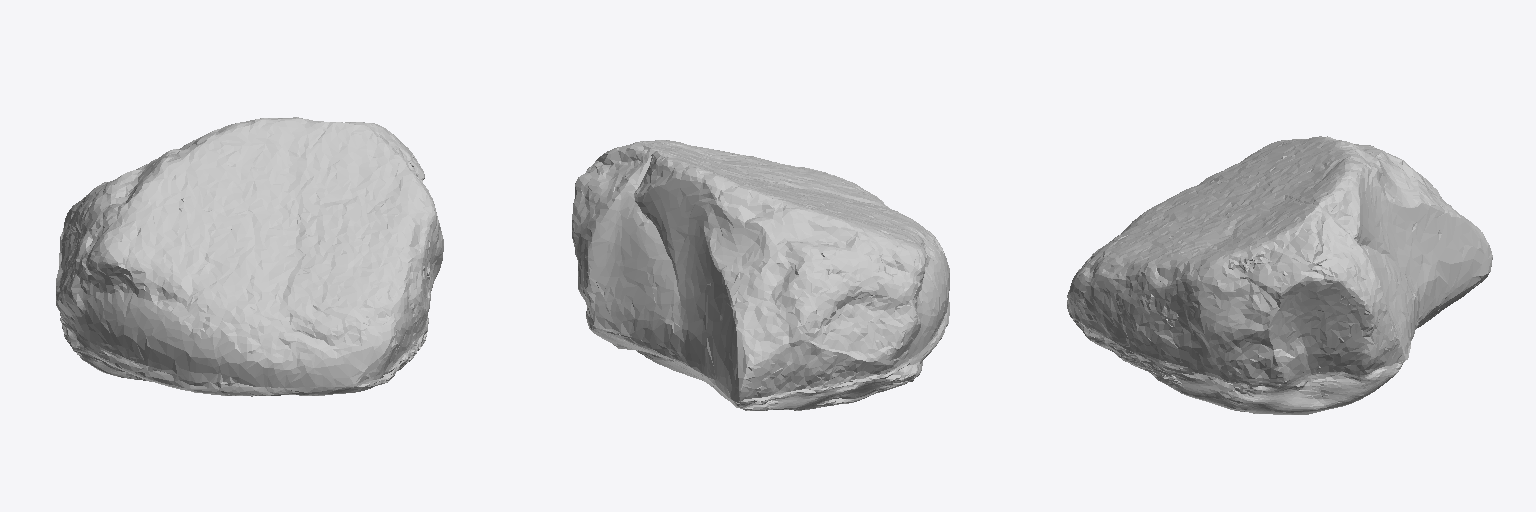
The model's file is rock.obj.
3 renders of one model, left to right at view 1: azimuth 30°, elevation 25°; view 2: azimuth 150°, elevation 25°; view 3: azimuth 270°, elevation 25°, orthographic.
Visible parts, largest first — view 1: Large_Rock_01; view 2: Large_Rock_01; view 3: Large_Rock_01.
Part boxes in pixels (x1,y1,x2,y2): Large_Rock_01: (56, 117, 443, 396); Large_Rock_01: (572, 140, 949, 410); Large_Rock_01: (1067, 136, 1492, 414).
Bounding box in the file's own units: 0.9872 × 0.5781 × 1.08.